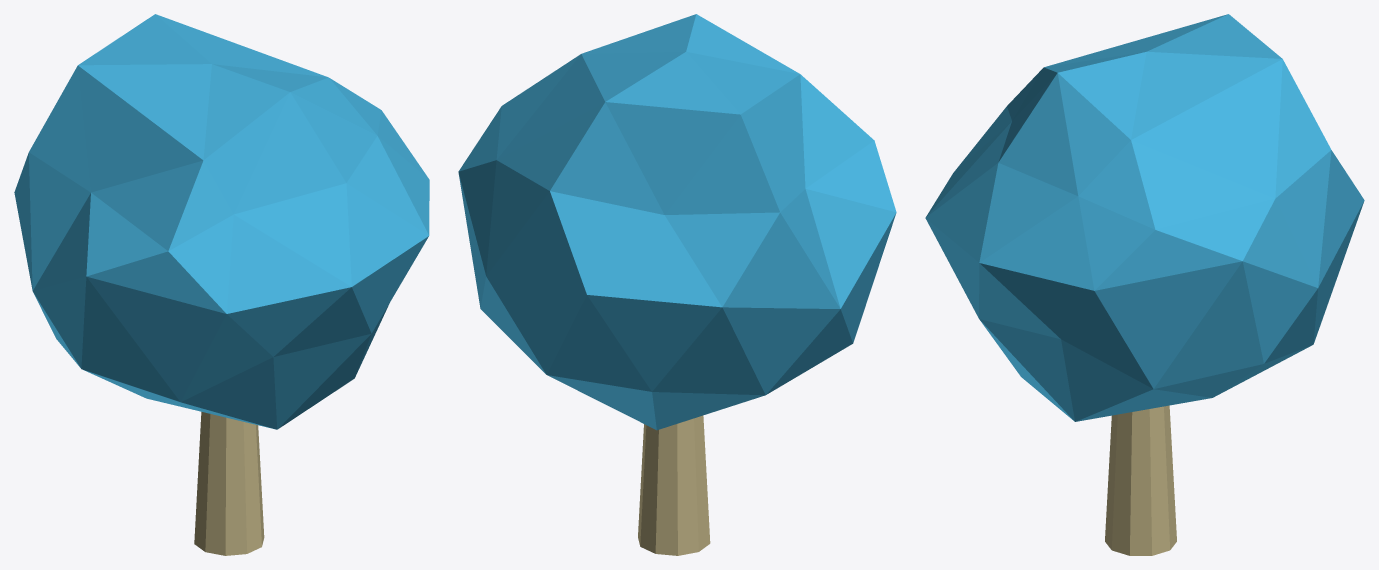
Rendered from Arvore_Azul.fbx.
The picture shows the model from 3 angles, left to right: view 1: azimuth 30°, elevation 25°; view 2: azimuth 150°, elevation 25°; view 3: azimuth 270°, elevation 25°; orthographic projection. The views are drawn at different scales.
Parts seen in each view (by area): view 1: polySurface7; view 2: polySurface7; view 3: polySurface7.
Part boxes in pixels (x1,y1,x2,y2): polySurface7: (14, 14, 429, 555); polySurface7: (458, 14, 896, 555); polySurface7: (925, 14, 1364, 555).
Bounding box in the file's own units: 25.89 × 33.22 × 27.4.
